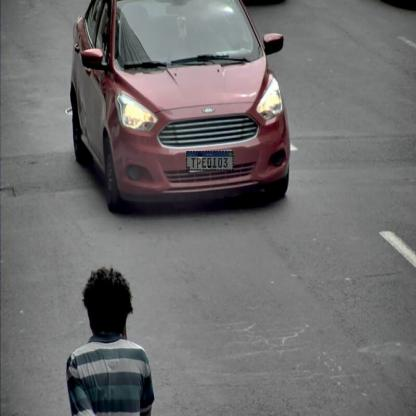PlacaM: (186, 151, 234, 171)
